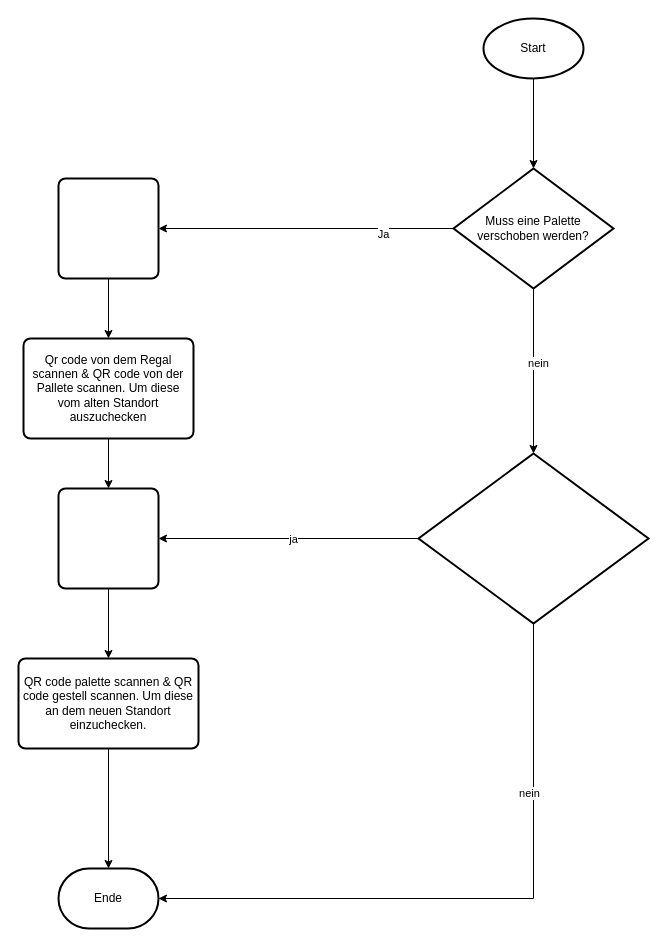
Image size: 666x946. Some labels were removed from this diagram. Each missing label, with the centre of its shape:
"Muss eine neue Palette eingeräumt werden" belongs at pixel 533 538.
"Pallete verschieben" belongs at pixel 108 538.
"Pallete vom Regal aufladen" belongs at pixel 108 228.
